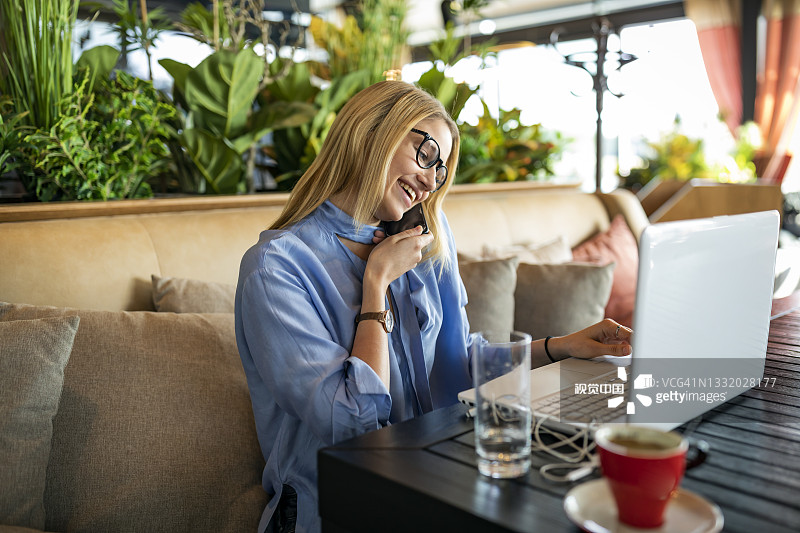calling: (355, 196, 441, 308)
